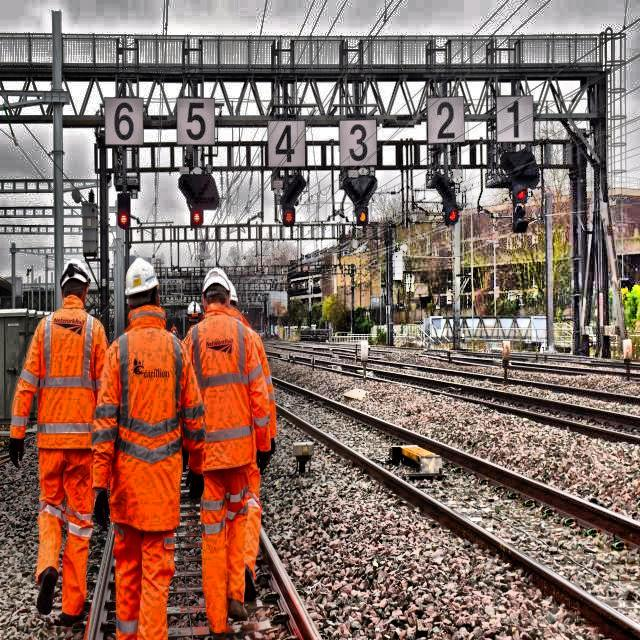person: (176, 238, 284, 640), (95, 254, 201, 636), (13, 242, 108, 626)
